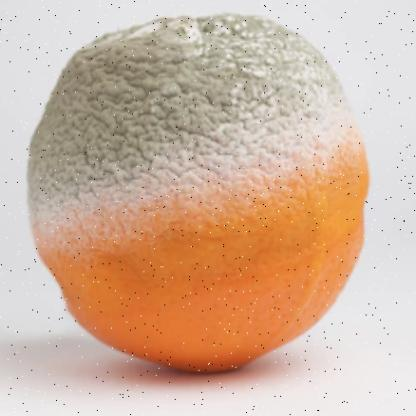rotten: (28, 19, 368, 374)
